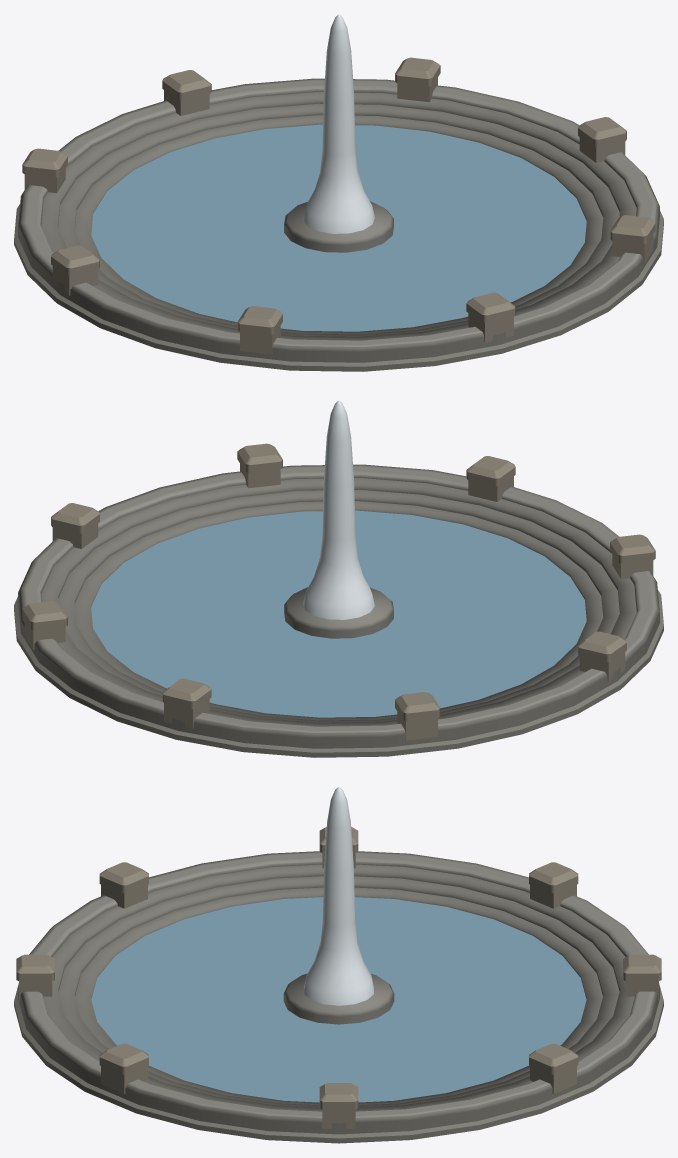
Rendered from washington-square-fountain.glb.
The picture shows the model from 3 angles, top to bottom: view 1: azimuth 30°, elevation 25°; view 2: azimuth 150°, elevation 25°; view 3: azimuth 270°, elevation 25°; orthographic projection.
Parts seen in each view (by area): view 1: Washington Square Fountain; view 2: Washington Square Fountain; view 3: Washington Square Fountain.
Part boxes in pixels (x1,y1,x2,y2): Washington Square Fountain: (14,14,663,371); Washington Square Fountain: (14,400,663,757); Washington Square Fountain: (14,787,663,1143).
Size of the model in its own units: 23.46 by 8.75 by 23.46.
